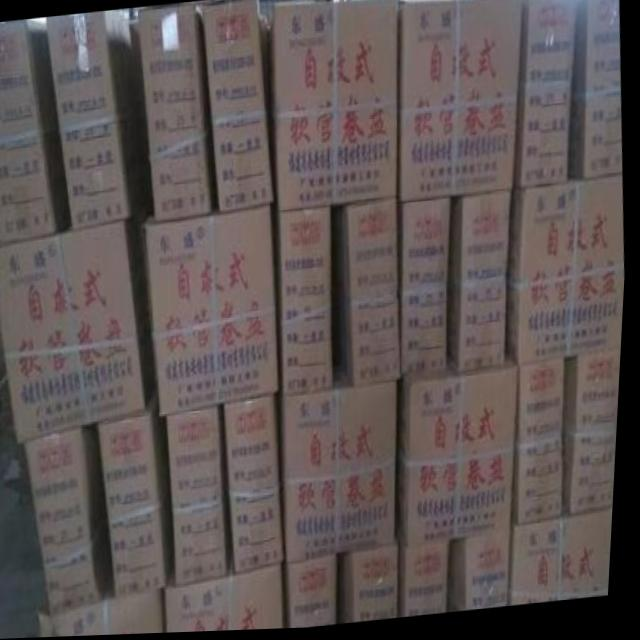box: (0, 198, 160, 442), (147, 207, 284, 418), (268, 0, 399, 212), (398, 0, 524, 204), (284, 361, 402, 564), (47, 11, 153, 228), (402, 359, 522, 548), (509, 180, 625, 366), (138, 4, 220, 220), (28, 424, 118, 616), (0, 19, 73, 242), (102, 389, 179, 599), (202, 0, 277, 214), (335, 201, 405, 388), (171, 407, 237, 587), (515, 0, 576, 190), (277, 207, 337, 395), (229, 394, 290, 577), (450, 195, 513, 372), (516, 512, 618, 610), (570, 0, 624, 182), (400, 201, 454, 379), (171, 553, 289, 634), (517, 361, 568, 527), (45, 571, 170, 638), (569, 355, 620, 518), (343, 543, 404, 625), (400, 525, 453, 618), (454, 534, 514, 614), (289, 557, 342, 631)
